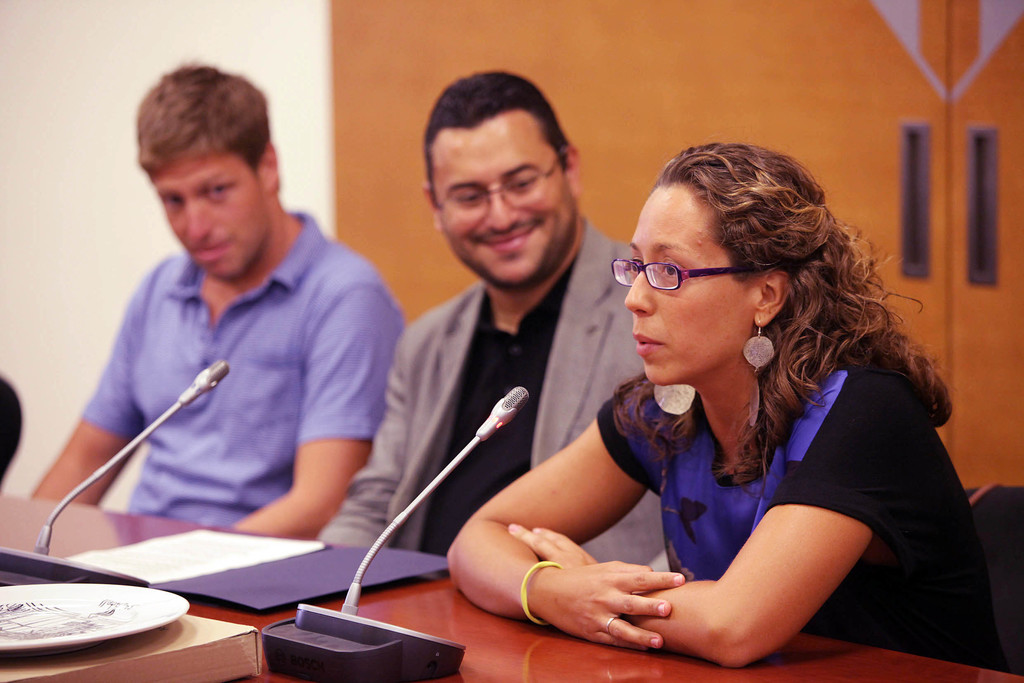Human_hand: (526, 556, 707, 648), (507, 520, 598, 569)
